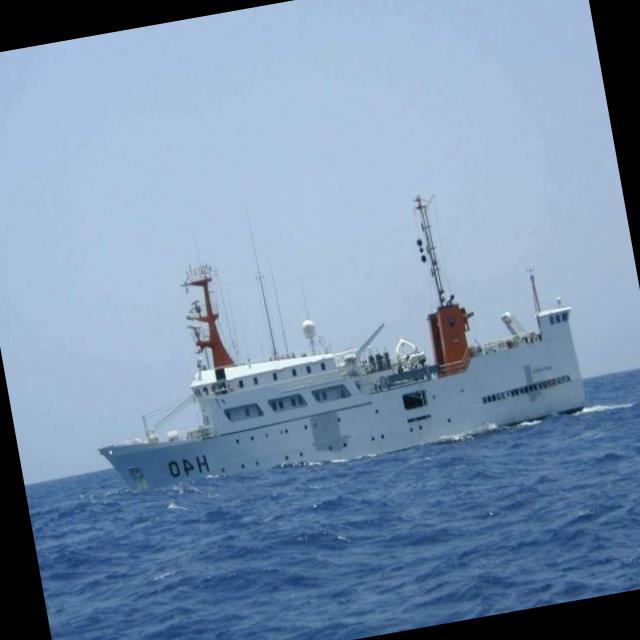Military: (99, 196, 585, 489)
